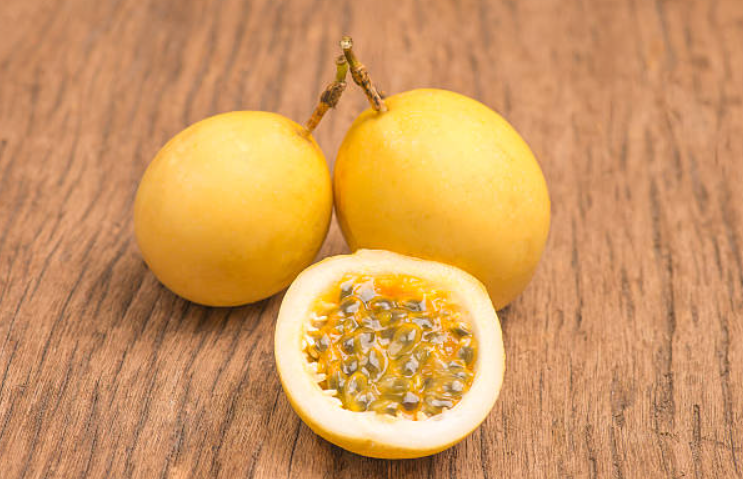maracuya: (330, 84, 557, 313), (125, 101, 333, 317)
